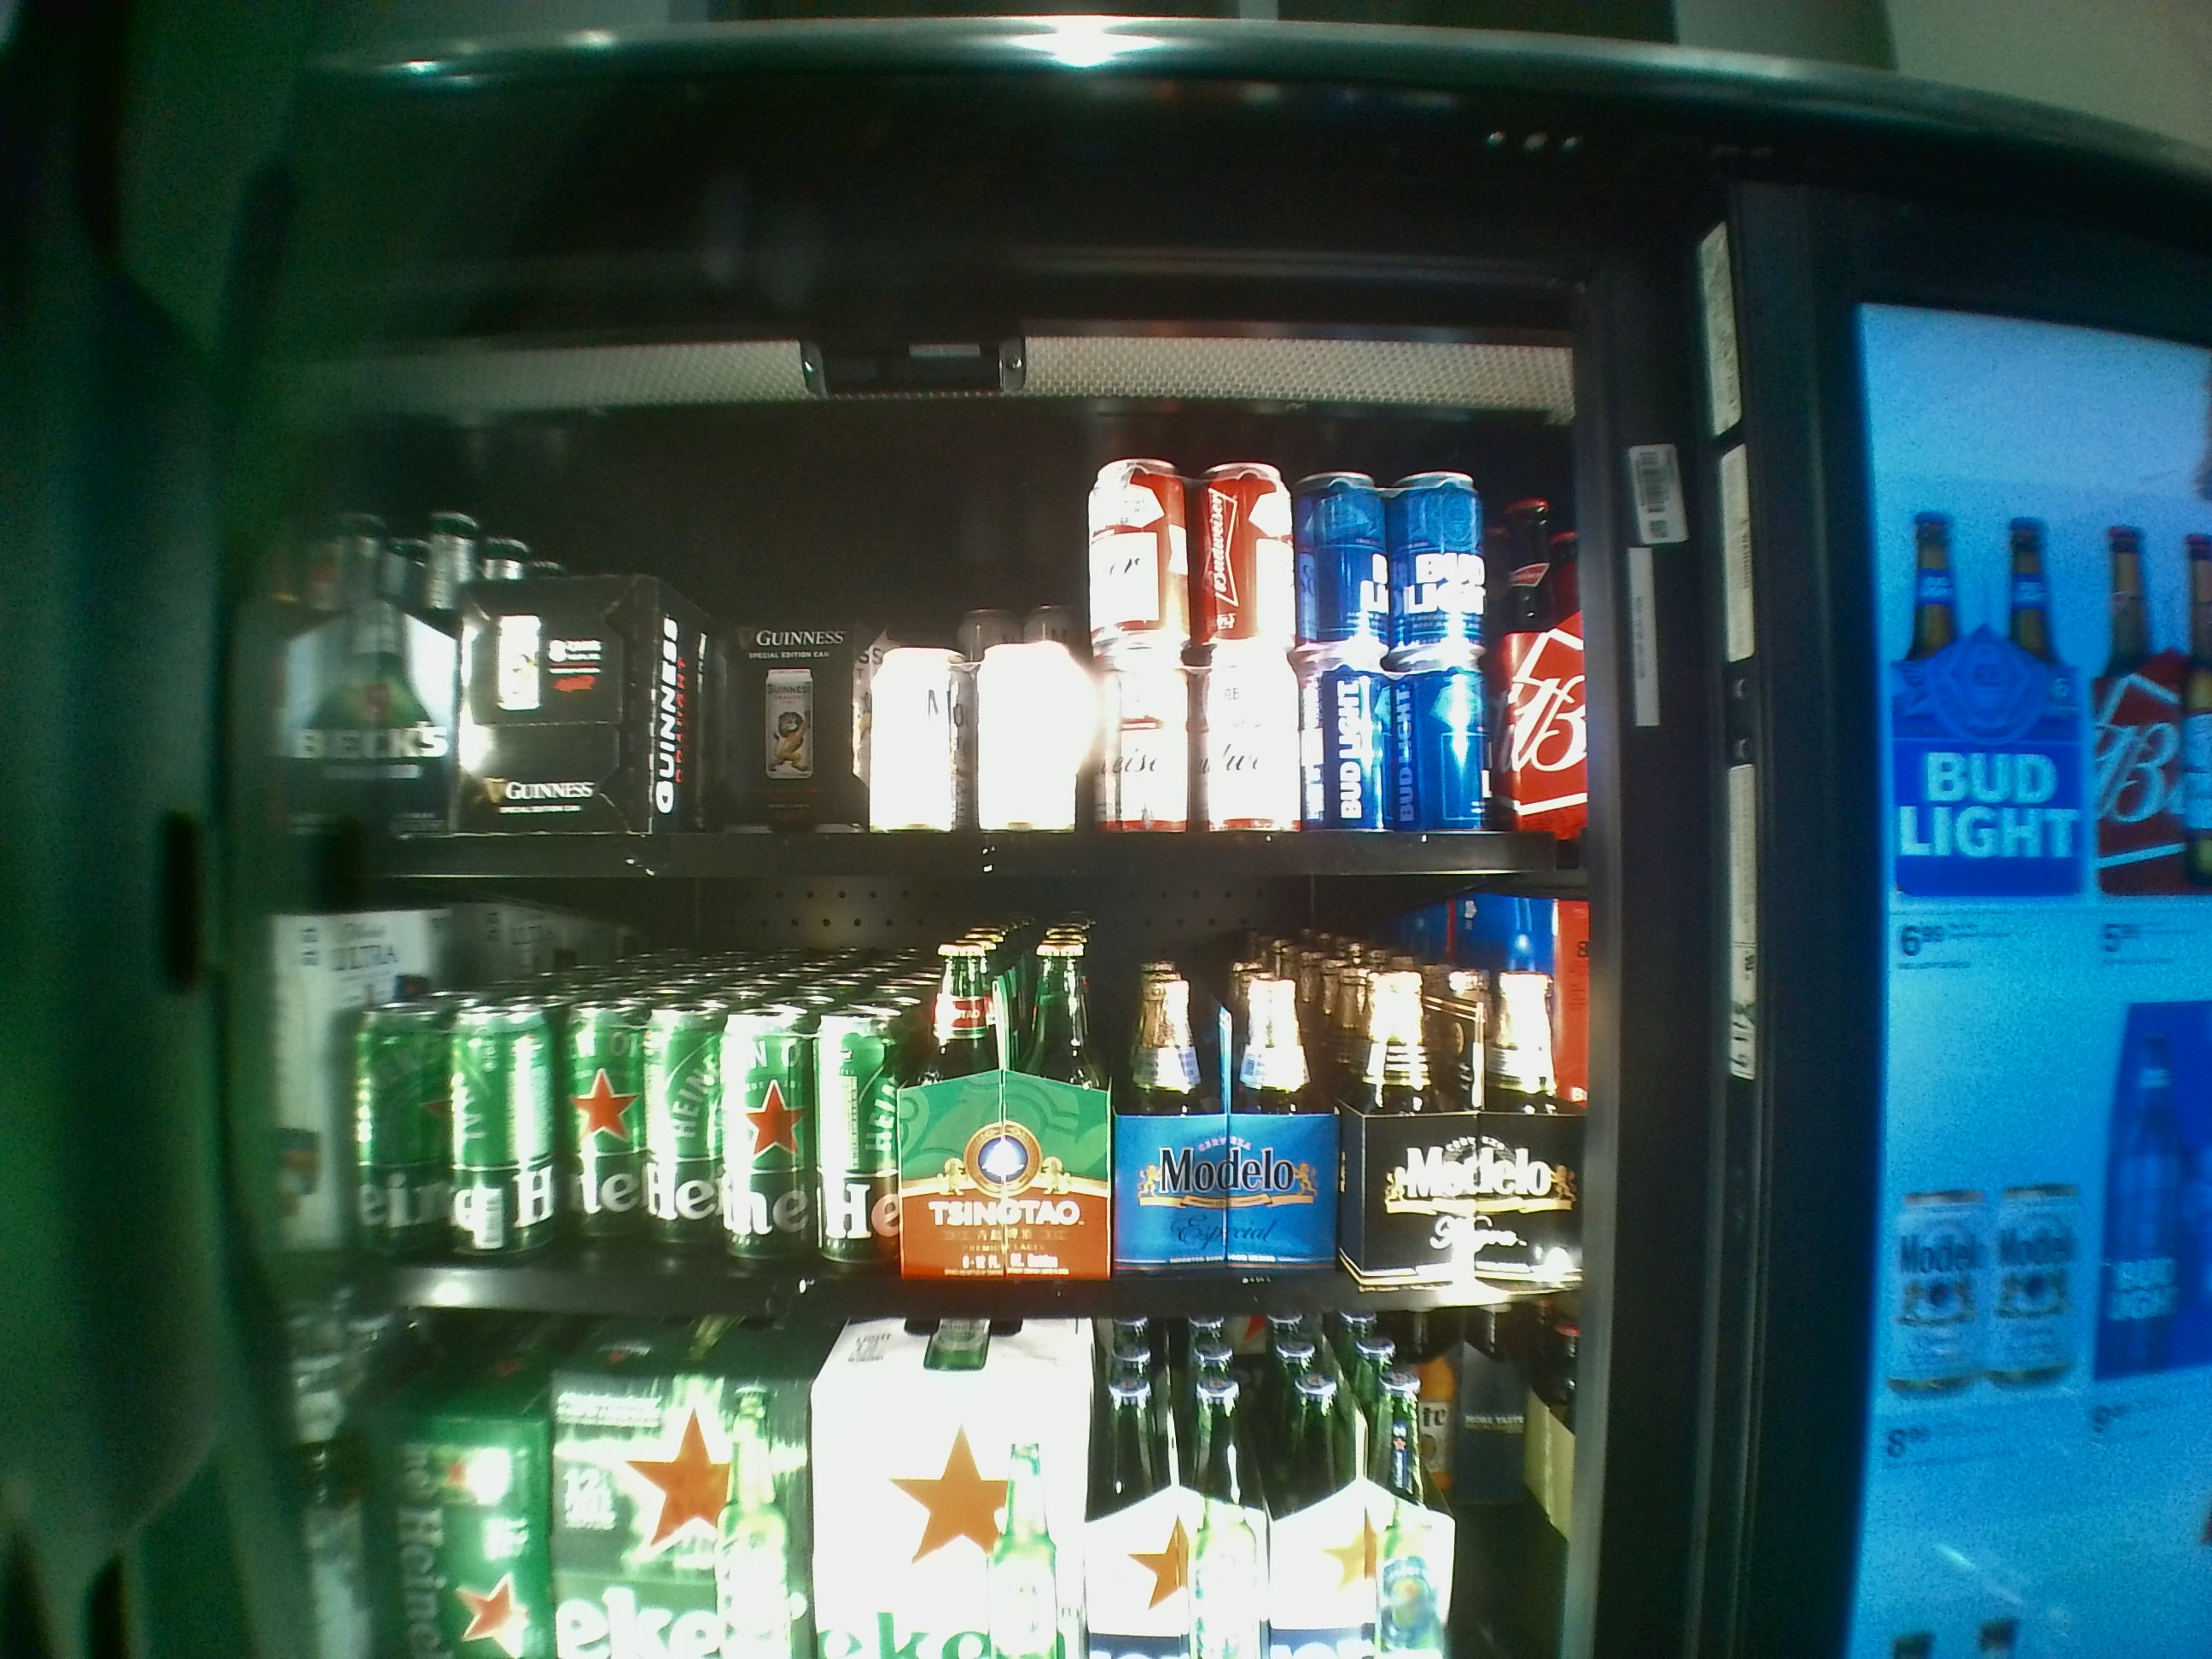shelf: (256, 420, 1581, 892), (256, 904, 1587, 1326)
